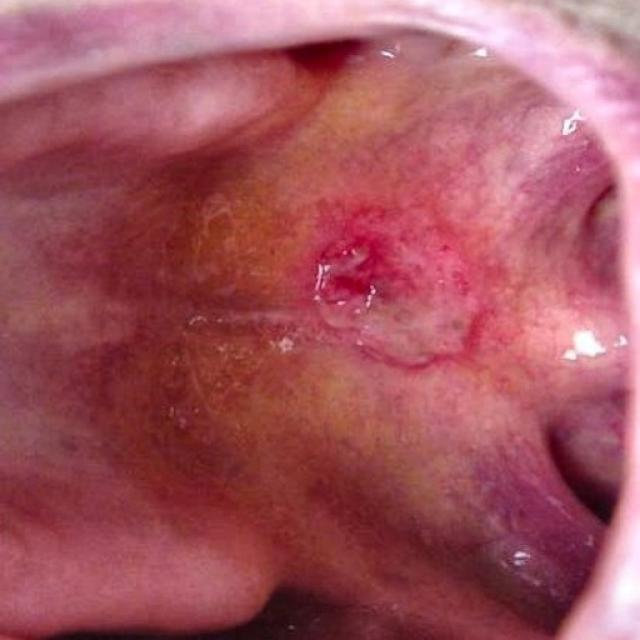cancer-detection: (287, 192, 504, 389)
processing_area: (0, 38, 635, 635)
